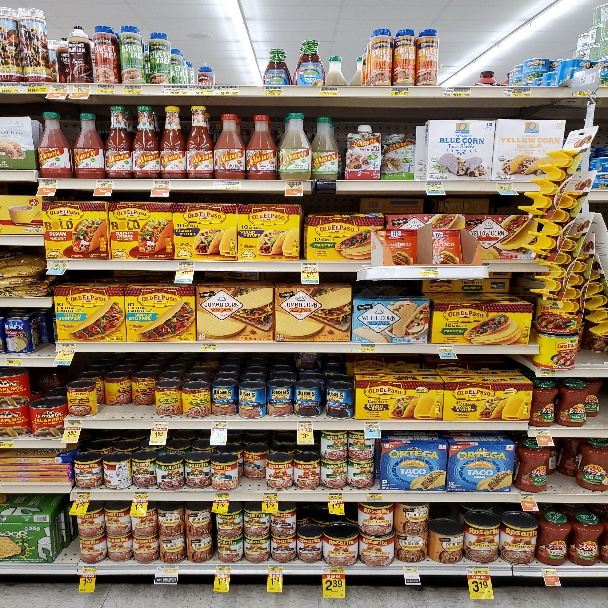All PRICE TAGS: (162, 85, 190, 94), (214, 180, 240, 189), (442, 88, 471, 96), (503, 88, 532, 96), (1, 83, 19, 93), (420, 267, 440, 276), (217, 87, 239, 95), (157, 565, 178, 573), (320, 86, 338, 95), (263, 87, 283, 95), (389, 87, 409, 95), (466, 567, 488, 574), (23, 84, 45, 91), (5, 357, 22, 366), (96, 85, 115, 93), (323, 567, 344, 574), (200, 343, 218, 351), (51, 84, 69, 92), (123, 85, 141, 93), (96, 180, 114, 188), (152, 180, 170, 188), (358, 344, 375, 352), (177, 261, 194, 269), (301, 263, 318, 271), (39, 180, 58, 187), (266, 565, 282, 573), (81, 566, 97, 574), (262, 492, 278, 500), (133, 492, 149, 500), (297, 421, 313, 429), (152, 420, 168, 428), (438, 345, 454, 353), (286, 181, 302, 189), (72, 85, 90, 92), (195, 87, 213, 94), (425, 182, 443, 189), (495, 182, 513, 189), (215, 565, 230, 573), (214, 492, 229, 500), (60, 343, 75, 351), (542, 567, 557, 575), (51, 260, 66, 268), (67, 420, 83, 427), (540, 369, 556, 376), (367, 493, 382, 500), (327, 493, 342, 500), (74, 492, 89, 499), (364, 421, 379, 428), (212, 421, 227, 428), (535, 429, 550, 436), (403, 566, 417, 573), (1, 440, 12, 448), (521, 494, 533, 501), (577, 91, 593, 96)
